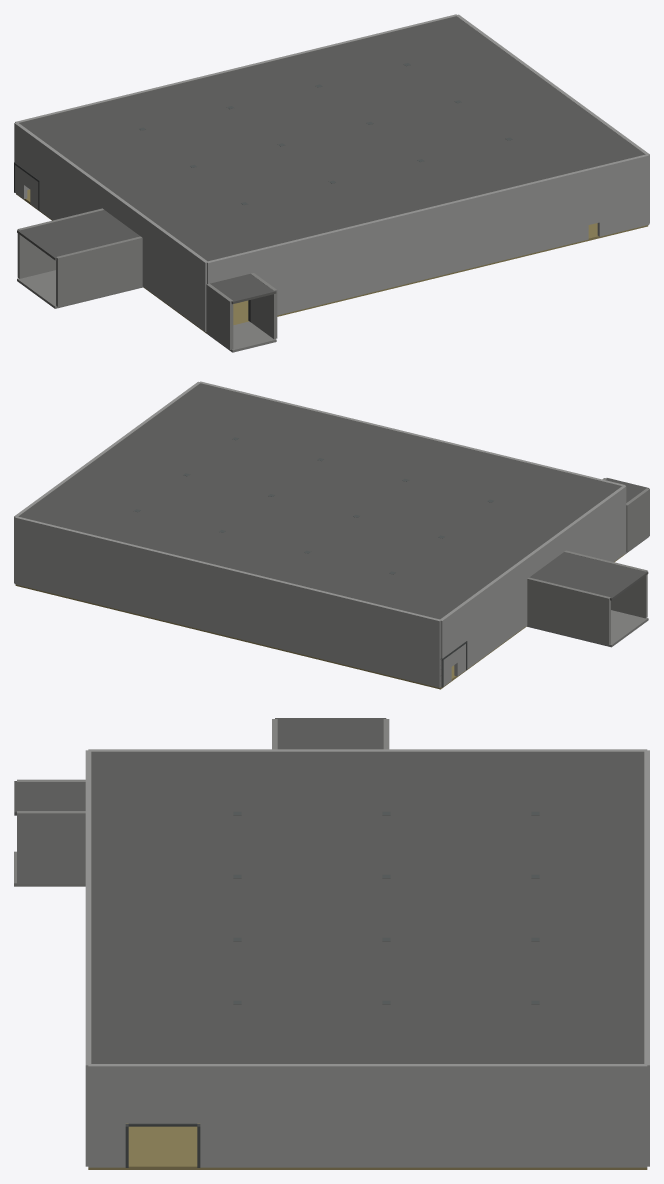
File: blockout_warehouse.glb
3 renders of one model, top to bottom at view 1: azimuth 30°, elevation 25°; view 2: azimuth 150°, elevation 25°; view 3: azimuth 270°, elevation 25°, orthographic. The views are drawn at different scales.
Parts seen in each view (by area): view 1: SM_L1_Zone06_Warehouse_Ceiling, SM_L1_Zone06_Warehouse_Wall_S_1, SM_L1_Zone06_Warehouse_Wall_W_0, SM_L1_Conn_ServiceLink_Wall_S_0, SM_L1_Zone06_Warehouse_Wall_W_2, SM_L1_Zone06_Warehouse_Wall_S_3, SM_L1_Conn_ServiceLink_Ceiling, SM_L1_Zone06_Warehouse_Floor, SM_L1_Conn_WarehouseConnector_Wall_W_0, SM_L1_Conn_ServiceLink_Wall_N_0, SM_L1_Zone06_Warehouse_Wall_N_0, SM_L1_Conn_WarehouseConnector_Ceiling (+8 smaller); view 2: SM_L1_Zone06_Warehouse_Ceiling, SM_L1_Zone06_Warehouse_Wall_N_0, SM_L1_Zone06_Warehouse_Wall_W_2, SM_L1_Conn_ServiceLink_Wall_N_0, SM_L1_Zone06_Warehouse_Wall_W_0, SM_L1_Conn_ServiceLink_Ceiling, SM_L1_Conn_ServiceLink_Wall_S_0, SM_L1_Conn_WarehouseConnector_Wall_W_0, SM_L1_Zone06_Warehouse_Floor, SM_L1_Conn_ServiceLink_Floor, SM_L1_Zone06_Warehouse_Wall_W_1, SM_L1_Zone06_Warehouse_Wall_S_1 (+2 smaller); view 3: SM_L1_Zone06_Warehouse_Ceiling, SM_L1_Zone06_Warehouse_Wall_E_2, SM_L1_Conn_WarehouseConnector_Wall_E_0, SM_L1_Zone06_Warehouse_Wall_E_1, SM_L1_Zone06_Warehouse_Floor, SM_L1_Zone06_Warehouse_Wall_E_0, SM_L1_Conn_ServiceLink_Ceiling, SM_L1_Zone06_Warehouse_Wall_N_0, SM_L1_Conn_WarehouseConnector_Ceiling, SM_L1_Zone06_Warehouse_Wall_S_1, SM_L1_Zone06_Warehouse_Wall_S_3, SM_L1_Zone06_Warehouse_Wall_W_2.
Part boxes in pixels (<box>): SM_L1_Zone06_Warehouse_Ceiling: <box>19,16,645,261</box>; SM_L1_Zone06_Warehouse_Wall_S_1: <box>250,169,588,315</box>; SM_L1_Zone06_Warehouse_Wall_W_0: <box>141,215,207,331</box>; SM_L1_Conn_ServiceLink_Wall_S_0: <box>56,236,142,306</box>; SM_L1_Zone06_Warehouse_Wall_W_2: <box>30,134,106,220</box>; SM_L1_Zone06_Warehouse_Wall_S_3: <box>597,154,649,236</box>; SM_L1_Conn_ServiceLink_Ceiling: <box>17,210,140,260</box>; SM_L1_Zone06_Warehouse_Floor: <box>16,189,648,333</box>; SM_L1_Conn_WarehouseConnector_Wall_W_0: <box>206,283,233,349</box>; SM_L1_Conn_ServiceLink_Wall_N_0: <box>17,208,103,278</box>; SM_L1_Zone06_Warehouse_Wall_N_0: <box>15,14,457,189</box>; SM_L1_Conn_WarehouseConnector_Ceiling: <box>210,273,276,304</box>; SM_L1_Zone06_Warehouse_Ceiling: <box>18,383,621,619</box>; SM_L1_Zone06_Warehouse_Wall_N_0: <box>14,516,440,687</box>; SM_L1_Zone06_Warehouse_Wall_W_2: <box>454,557,528,676</box>; SM_L1_Conn_ServiceLink_Wall_N_0: <box>527,577,610,645</box>; SM_L1_Zone06_Warehouse_Wall_W_0: <box>562,486,626,561</box>; SM_L1_Conn_ServiceLink_Ceiling: <box>529,552,648,600</box>; SM_L1_Conn_ServiceLink_Wall_S_0: <box>564,550,647,618</box>; SM_L1_Conn_WarehouseConnector_Wall_W_0: <box>626,488,649,552</box>; SM_L1_Zone06_Warehouse_Floor: <box>15,554,624,689</box>; SM_L1_Conn_ServiceLink_Floor: <box>526,610,648,647</box>; SM_L1_Zone06_Warehouse_Wall_W_1: <box>525,530,564,577</box>; SM_L1_Zone06_Warehouse_Wall_S_1: <box>257,395,582,475</box>; SM_L1_Zone06_Warehouse_Ceiling: <box>91,751,644,1063</box>; SM_L1_Zone06_Warehouse_Wall_E_2: <box>200,1064,647,1167</box>; SM_L1_Conn_WarehouseConnector_Wall_E_0: <box>17,811,85,884</box>; SM_L1_Zone06_Warehouse_Wall_E_1: <box>125,1064,200,1123</box>; SM_L1_Zone06_Warehouse_Floor: <box>88,1123,647,1169</box>; SM_L1_Zone06_Warehouse_Wall_E_0: <box>88,1064,125,1167</box>; SM_L1_Conn_ServiceLink_Ceiling: <box>275,718,386,749</box>; SM_L1_Zone06_Warehouse_Wall_N_0: <box>644,750,649,1166</box>; SM_L1_Conn_WarehouseConnector_Ceiling: <box>14,781,85,815</box>; SM_L1_Zone06_Warehouse_Wall_S_1: <box>85,782,91,1021</box>; SM_L1_Zone06_Warehouse_Wall_S_3: <box>85,1030,91,1166</box>; SM_L1_Zone06_Warehouse_Wall_W_2: <box>386,749,600,751</box>.
Size of the model in its own units: 48.18 by 6.2 by 34.15.
